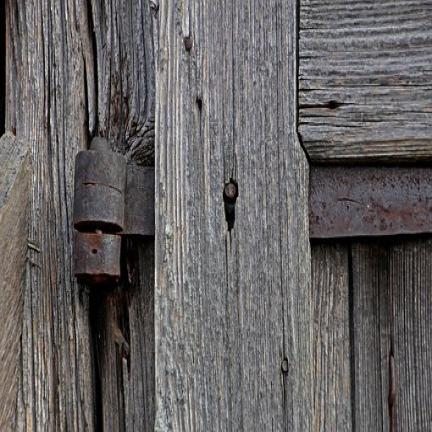karat: (307, 159, 431, 246)
